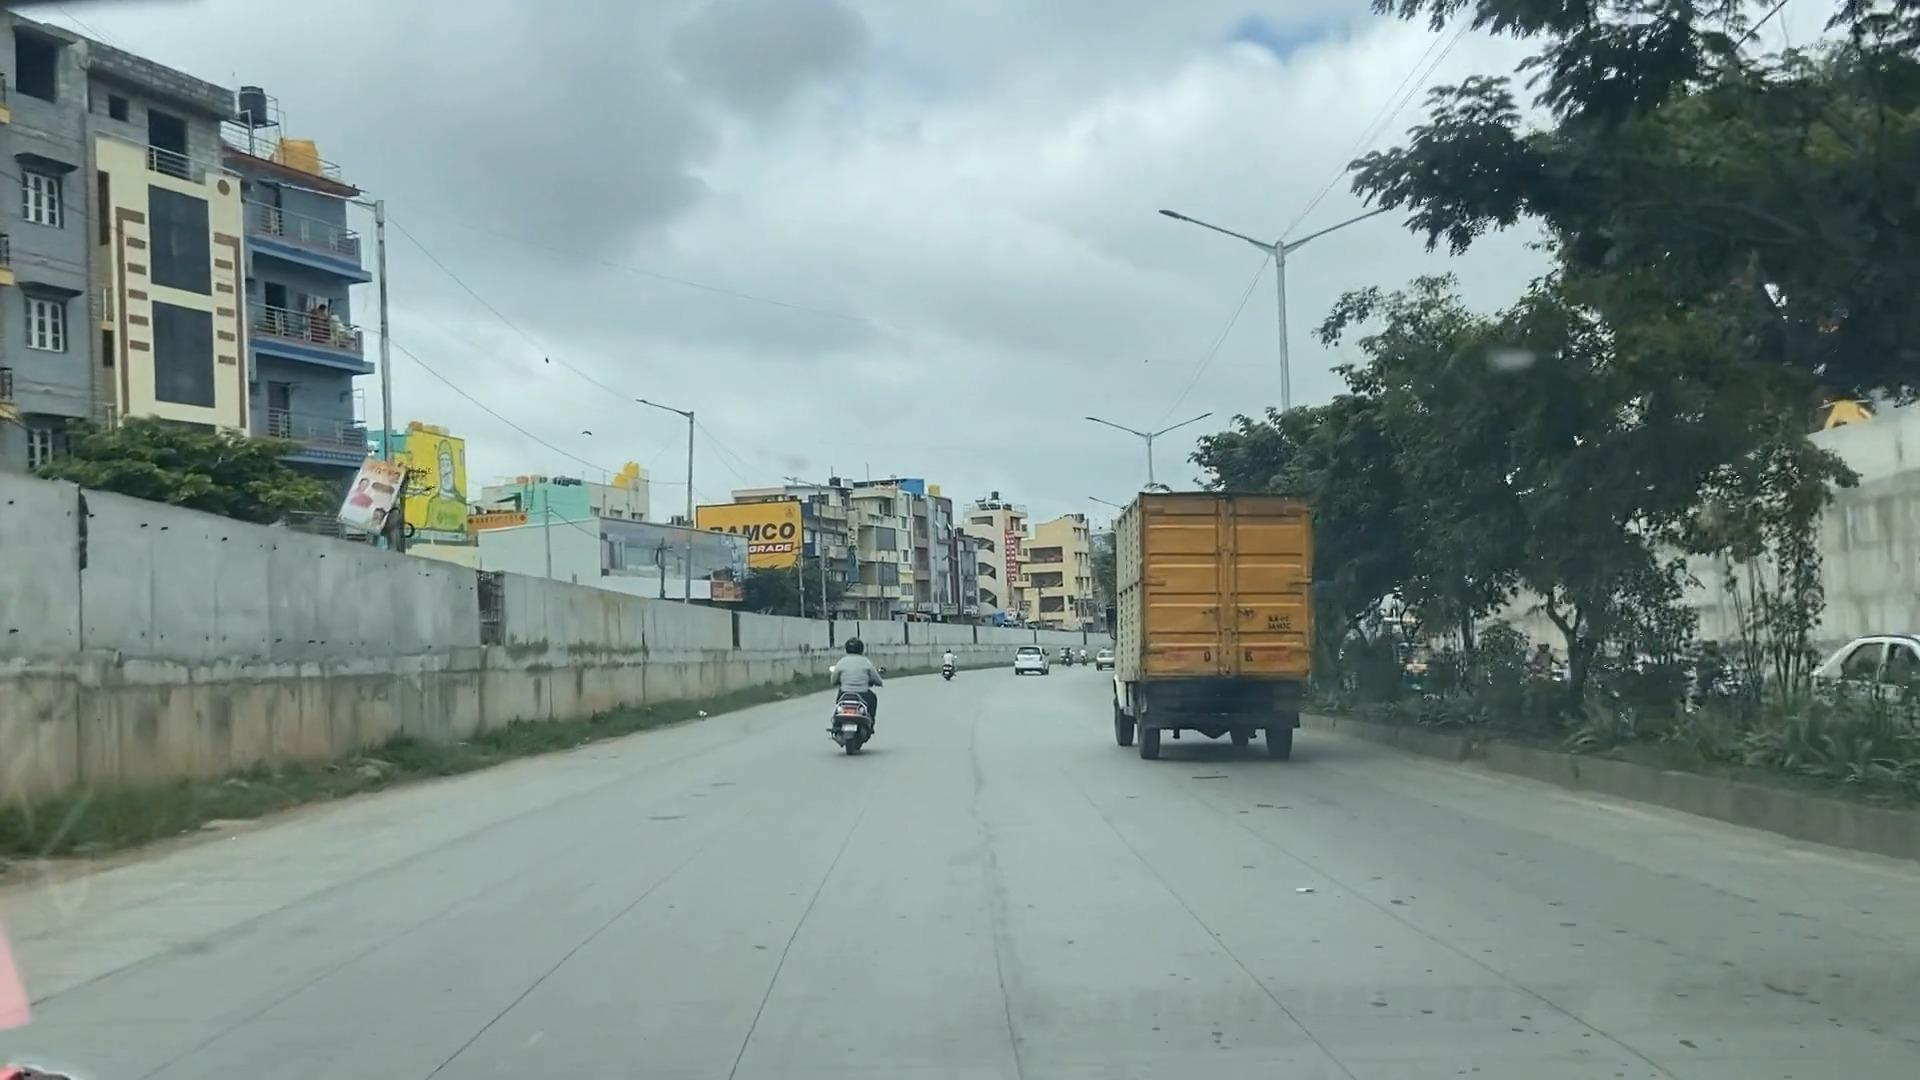HMV: (1091, 476, 1331, 795)
